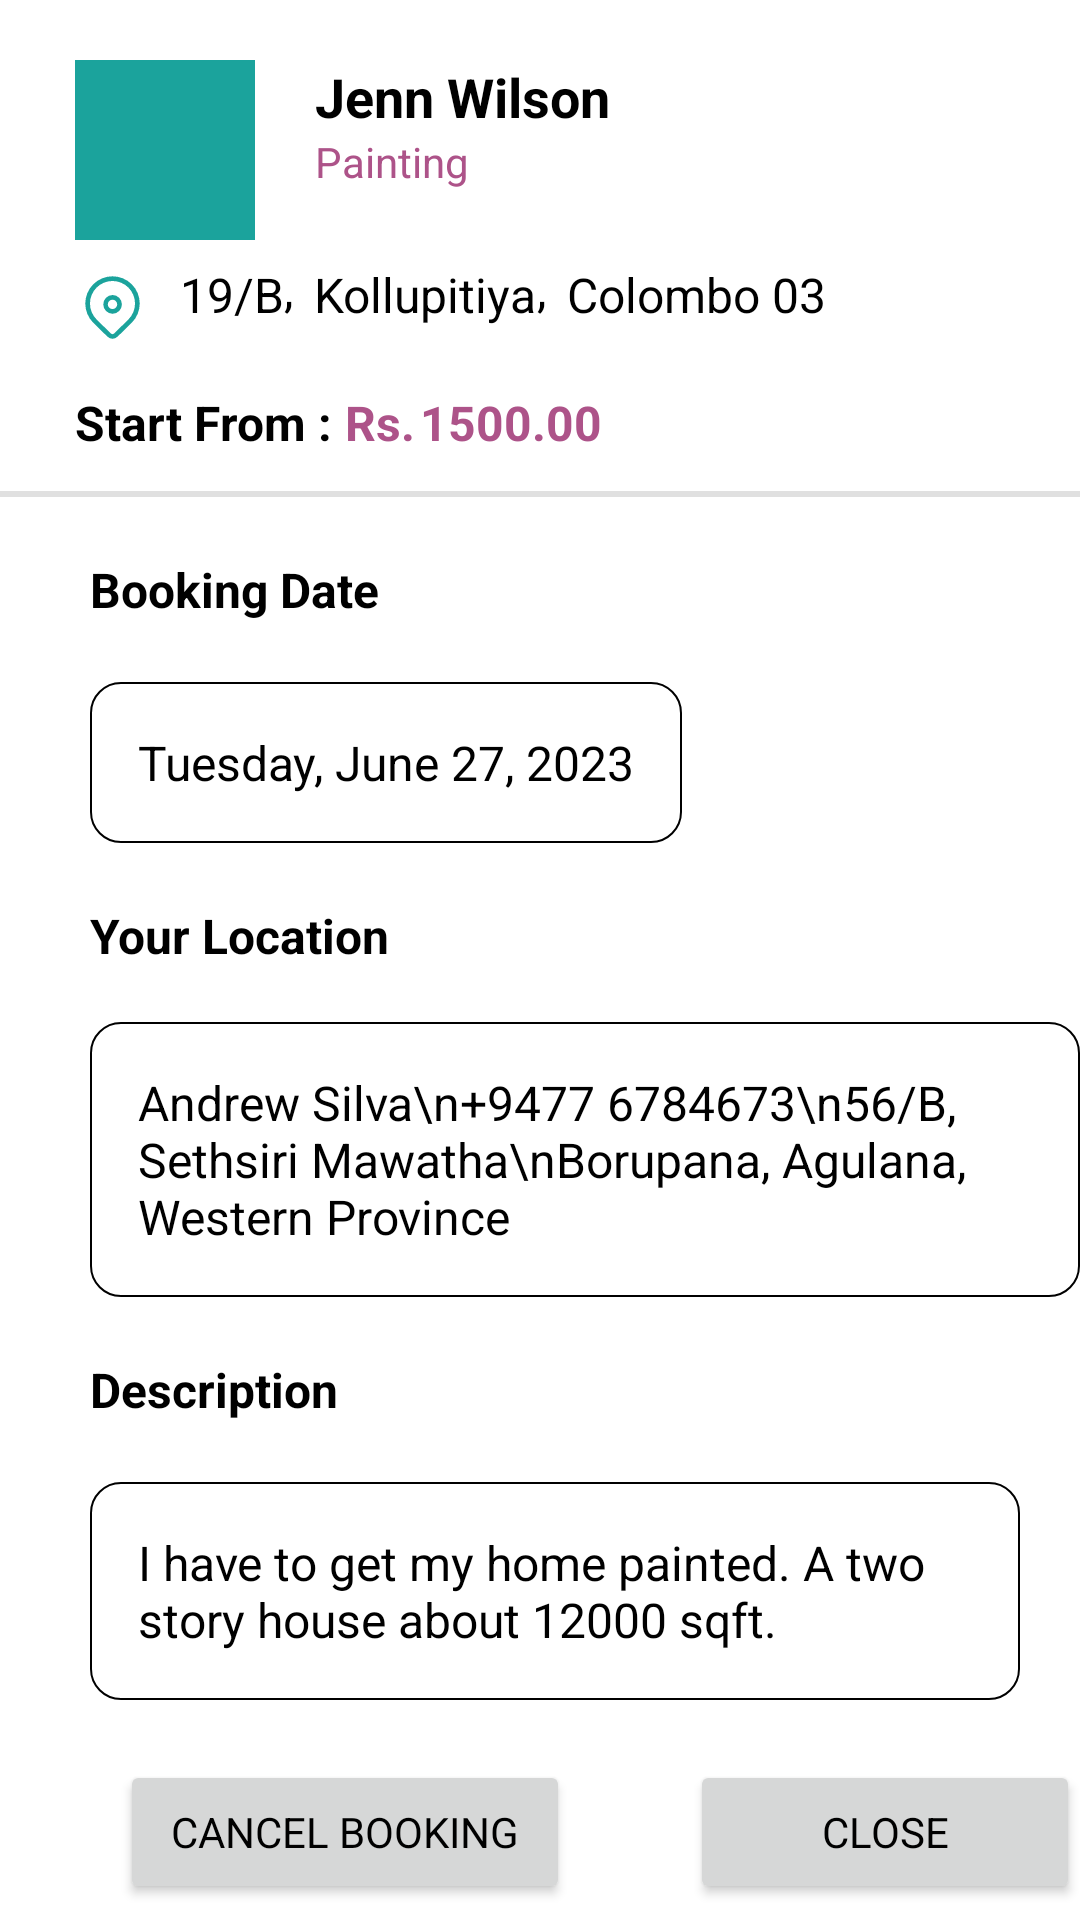

Named icons in this screenshot (1080w x 1920h) and their bounding boxes, BBox(x1, y1, x2, y2):
fluent location: BBox(85, 276, 140, 339)
